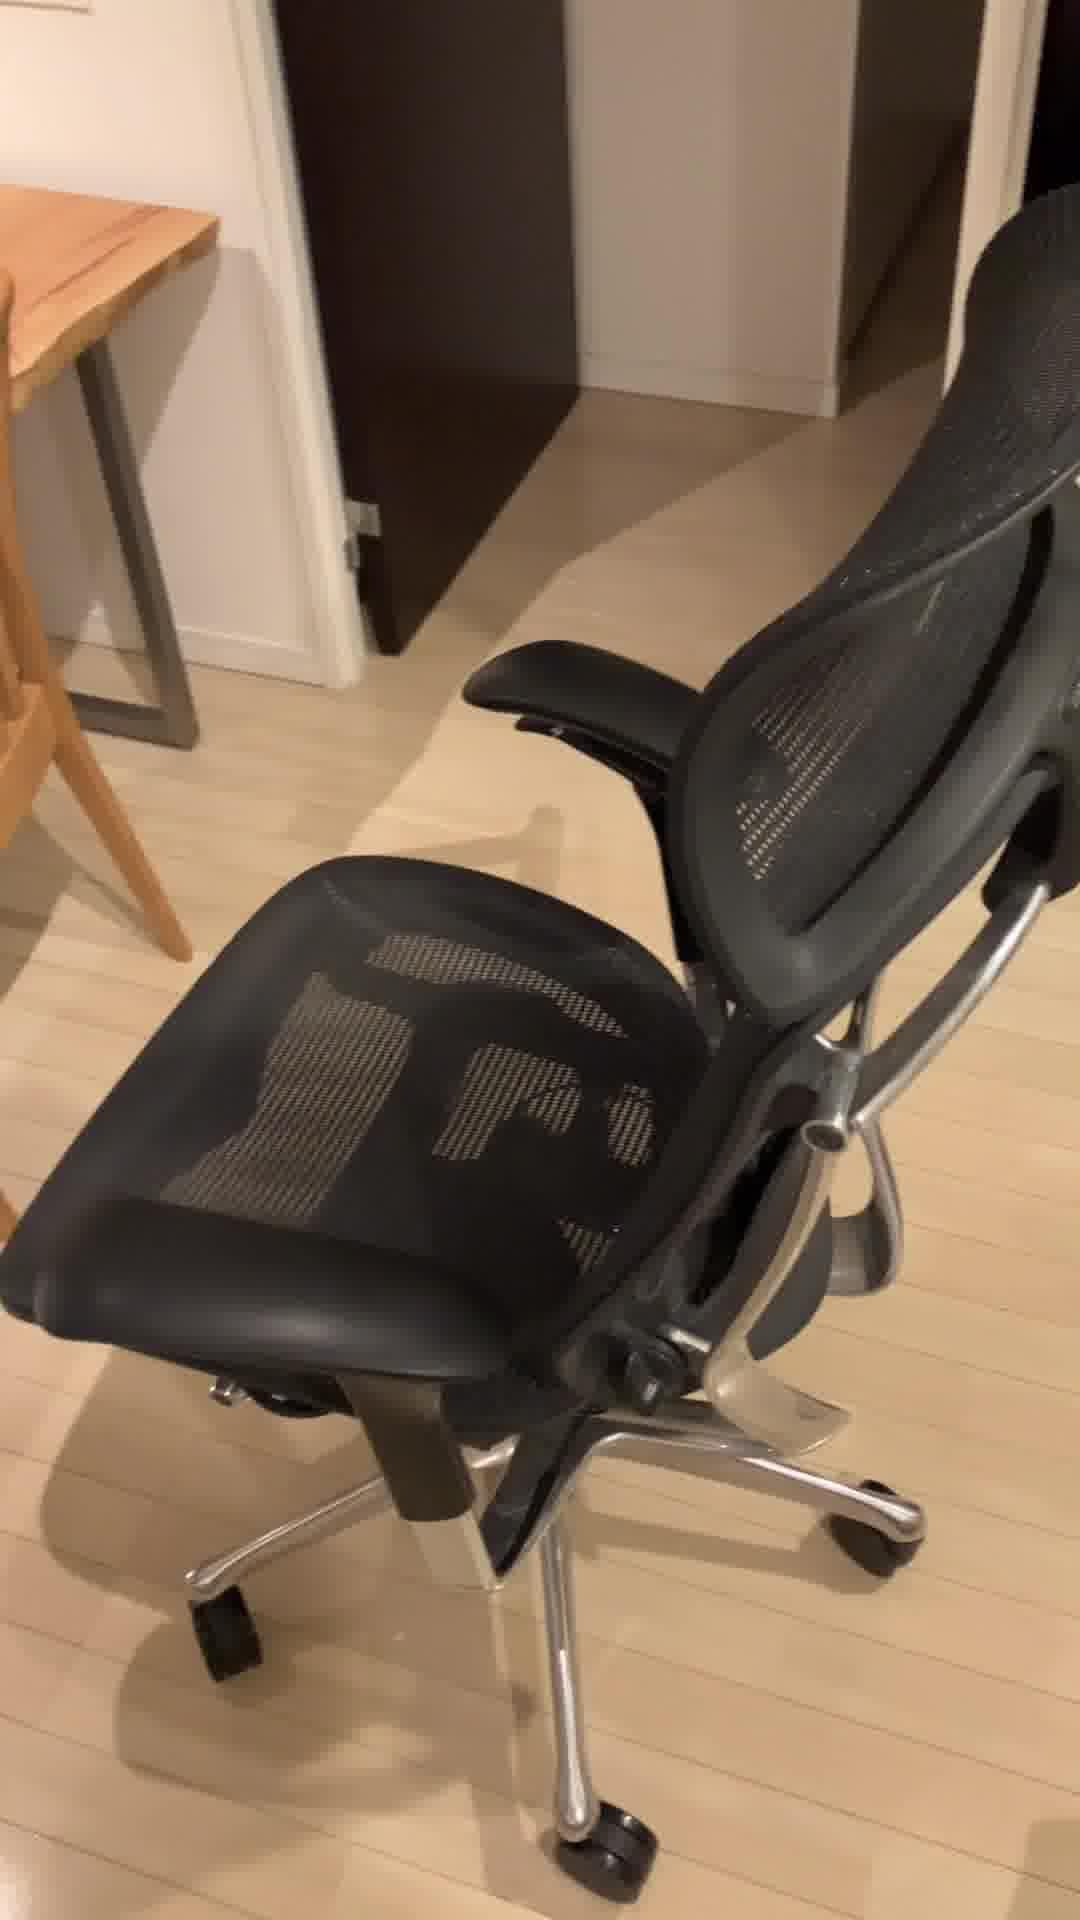okamura-contessa: (0, 175, 1080, 1903)
